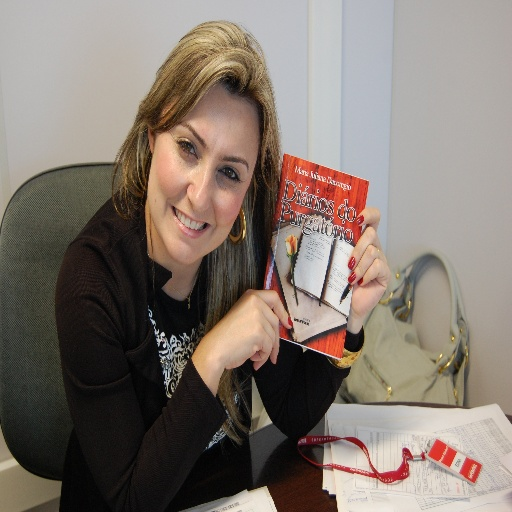hand: (205, 286, 293, 371), (344, 204, 392, 324)
